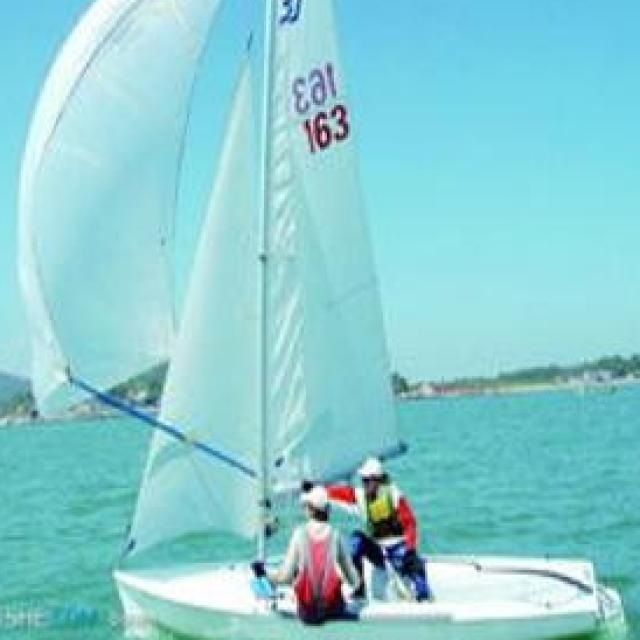sailboat: (19, 0, 600, 640)
